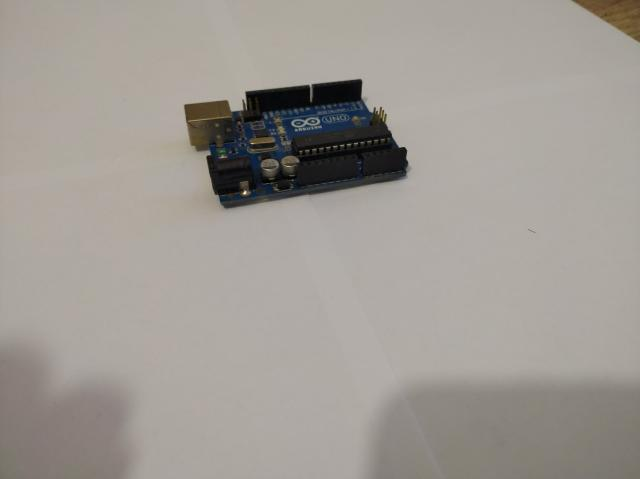arduino: (185, 80, 409, 206)
